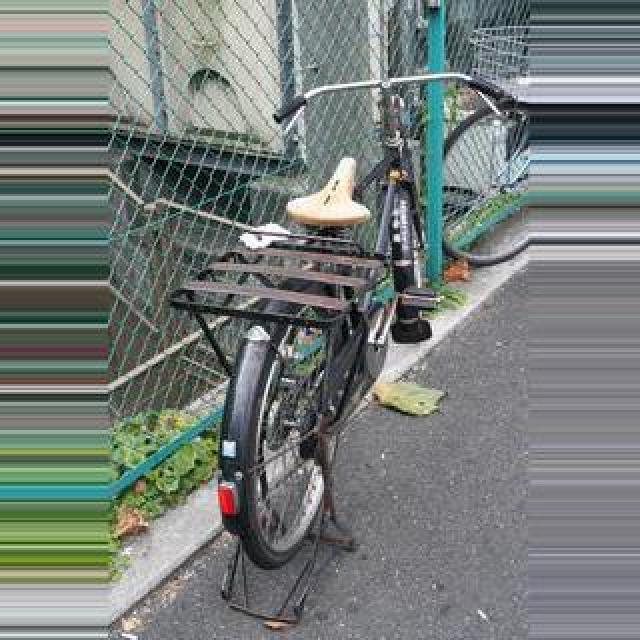Person: (168, 58, 516, 574)
